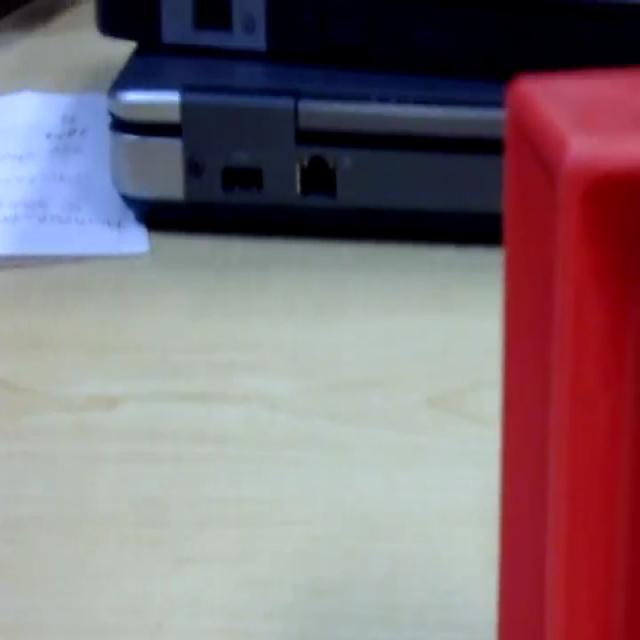red_block: (496, 64, 638, 636)
